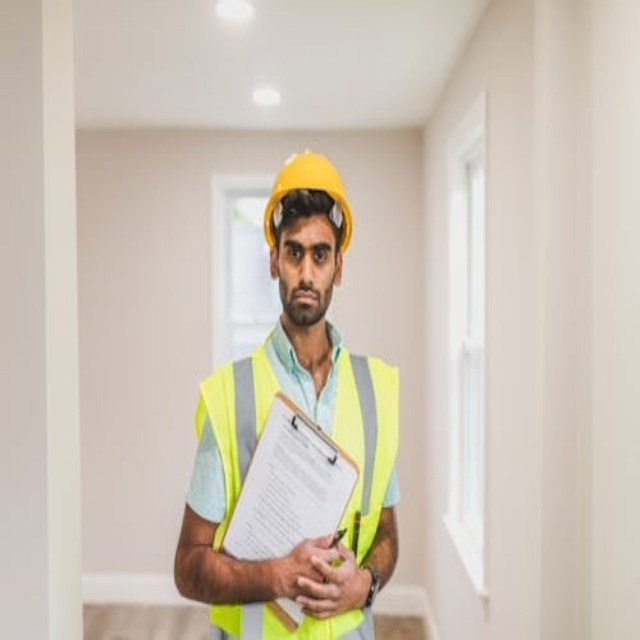Sin_gafas: (278, 236, 333, 269)
Sin_guantes: (294, 540, 368, 618)
Sin_mascara: (285, 284, 324, 319)
